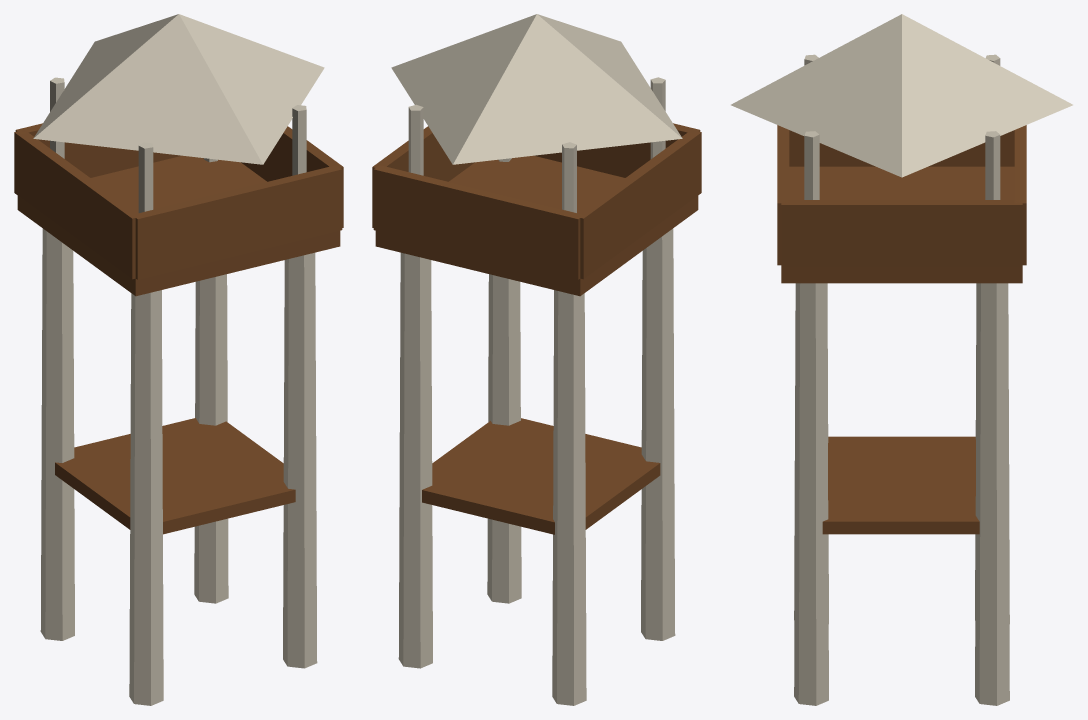
File: centaur_tower.glb
3 renders of one model, left to right at view 1: azimuth 30°, elevation 25°; view 2: azimuth 150°, elevation 25°; view 3: azimuth 270°, elevation 25°, orthographic. The views are drawn at different scales.
Parts seen in each view (by area): view 1: centaur_tower; view 2: centaur_tower; view 3: centaur_tower.
Part boxes in pixels (box(x1,y1,x2,y2)): centaur_tower: box(14, 14, 343, 705); centaur_tower: box(372, 14, 701, 705); centaur_tower: box(731, 14, 1072, 705).
Size of the model in its own units: 1.71 by 3.55 by 1.71.
